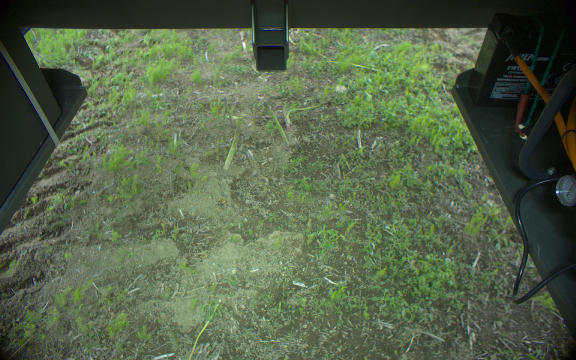aspa: (260, 102, 290, 148), (220, 121, 245, 172), (220, 94, 239, 134)
